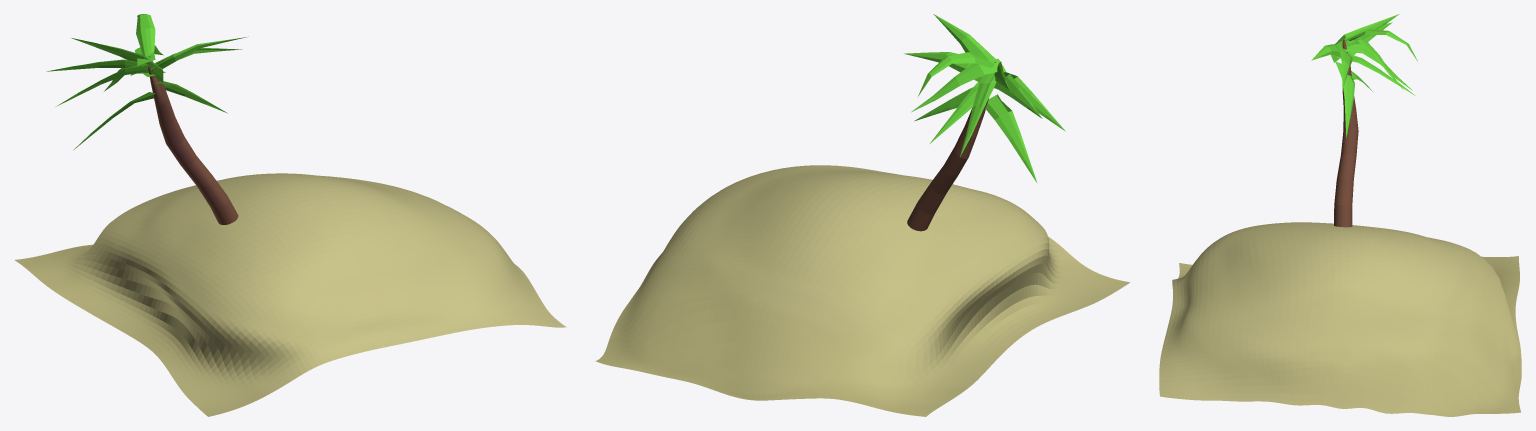
The model's file is island.glb.
3 views of the same model, side by side, from view 1: azimuth 30°, elevation 25°; view 2: azimuth 150°, elevation 25°; view 3: azimuth 270°, elevation 25° (orthographic). The views are drawn at different scales.
Parts seen in each view (by area): view 1: Island, Tree; view 2: Island, Tree; view 3: Island, Tree.
Part boxes in pixels (x1,y1,x2,y2): Island: (14, 173, 566, 416); Tree: (46, 14, 248, 224); Island: (595, 165, 1129, 416); Tree: (904, 14, 1065, 231); Island: (1159, 222, 1521, 416); Tree: (1311, 14, 1417, 227).
Bounding box in the file's own units: 9.28 × 6.69 × 8.19.
